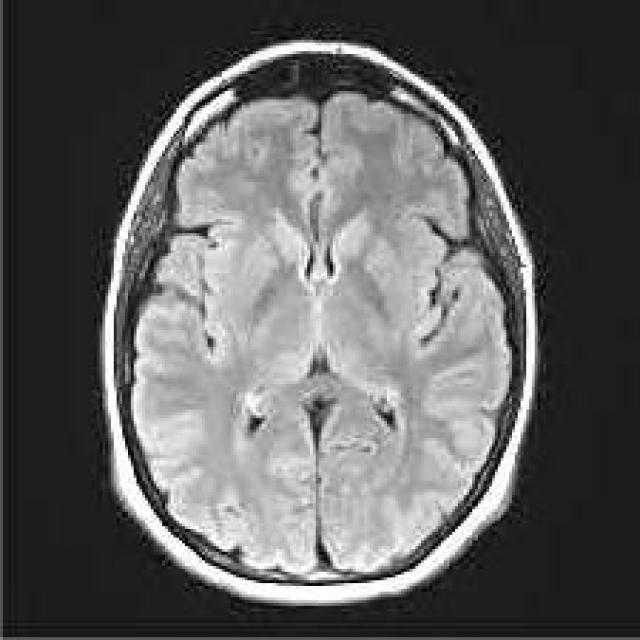notumor: (100, 43, 540, 609)
